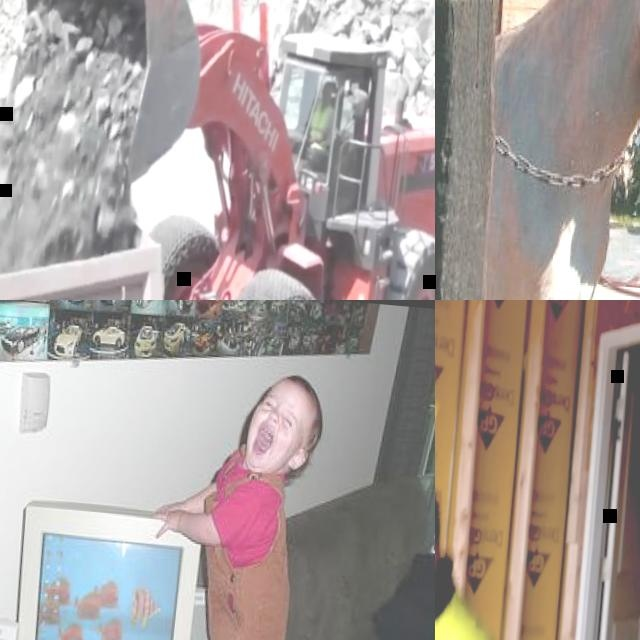Hardhat: (322, 80, 333, 92)
NO-Hardhat: (272, 369, 329, 440)
NO-Mask: (237, 411, 299, 470), (322, 96, 330, 108)
NO-Safety Vest: (194, 454, 298, 640)
Person: (130, 357, 332, 640), (435, 325, 597, 640), (304, 79, 338, 167)
Safety Vest: (309, 103, 332, 145)
machinery: (0, 0, 435, 300), (0, 55, 209, 300)
